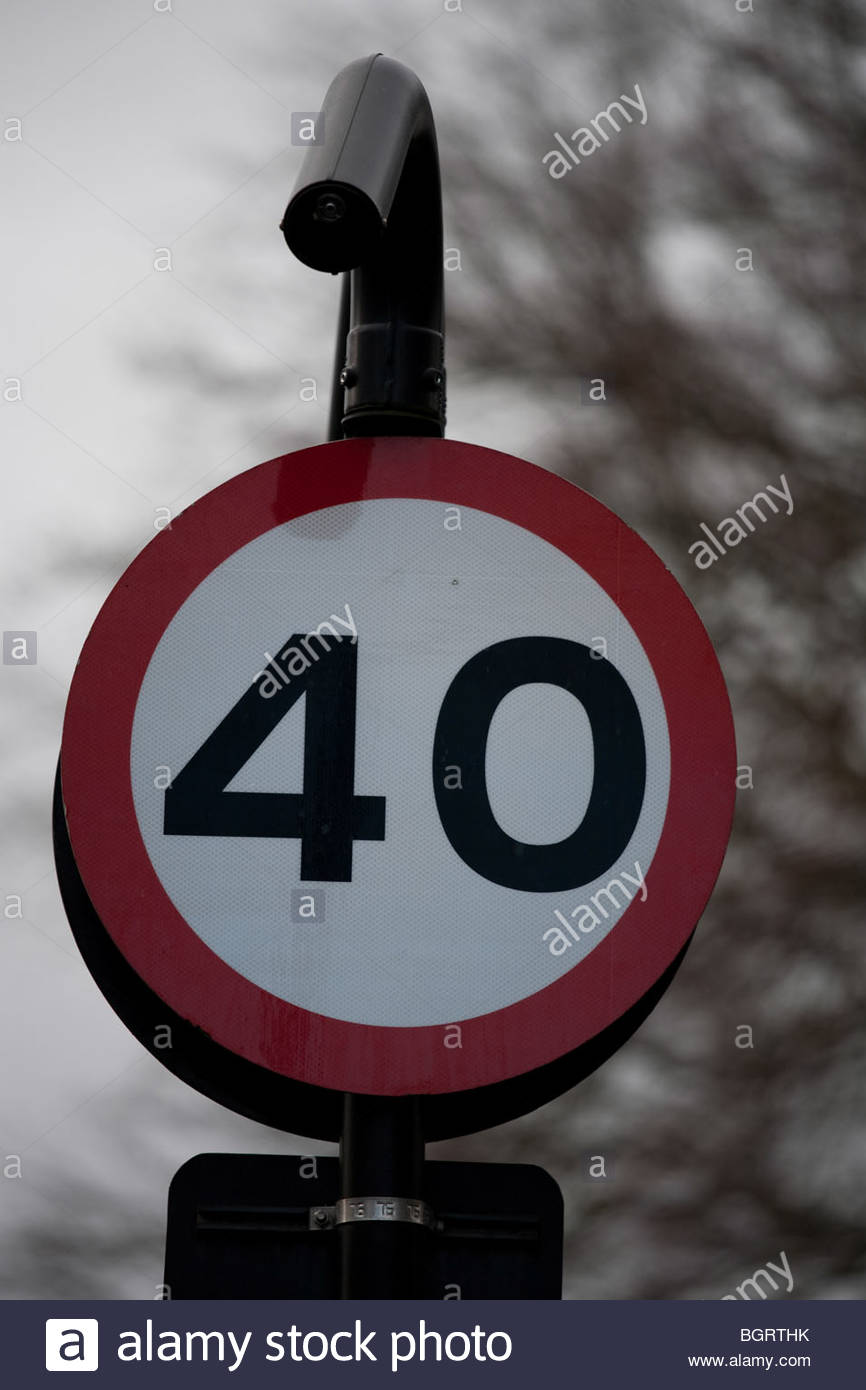Speed_limit_40km: (68, 439, 738, 1099)
